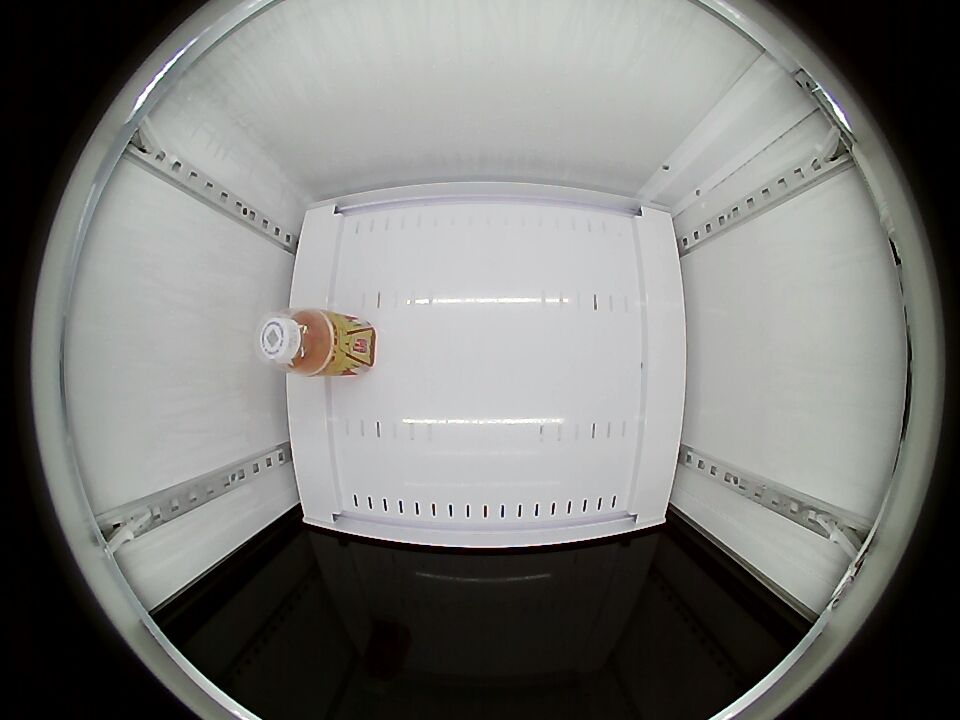dongpeng-b: (256, 308, 337, 376)
